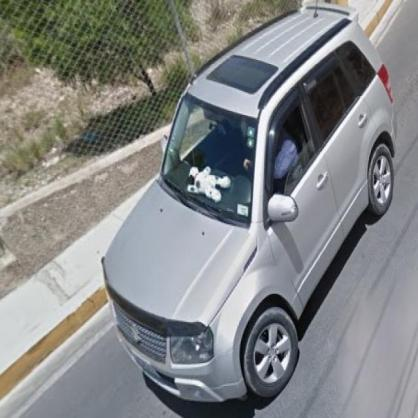car: (104, 4, 399, 414)
